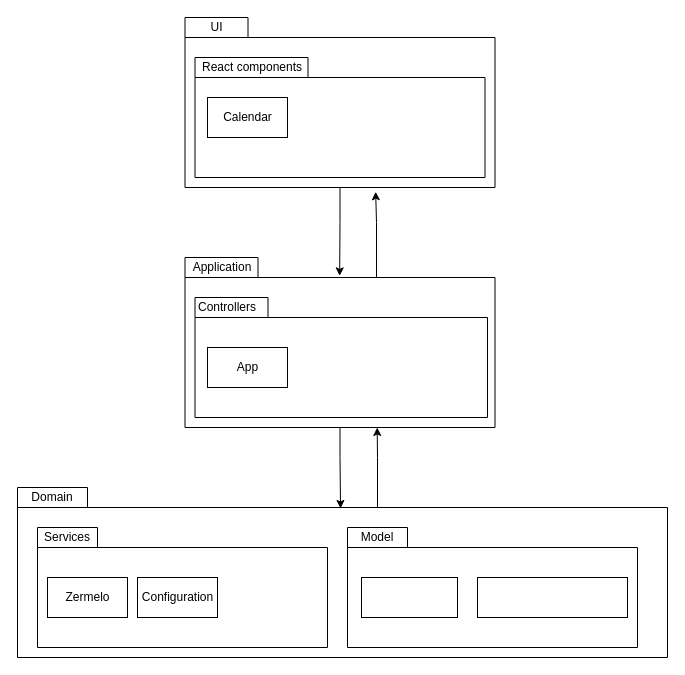
Image size: 685x675. Some labels were removed from this diagram. The centre of each missing label's shape, as x and y in pixels:
Zermelo Event: point 409,597
Zermelo Rest Response: point 552,597
